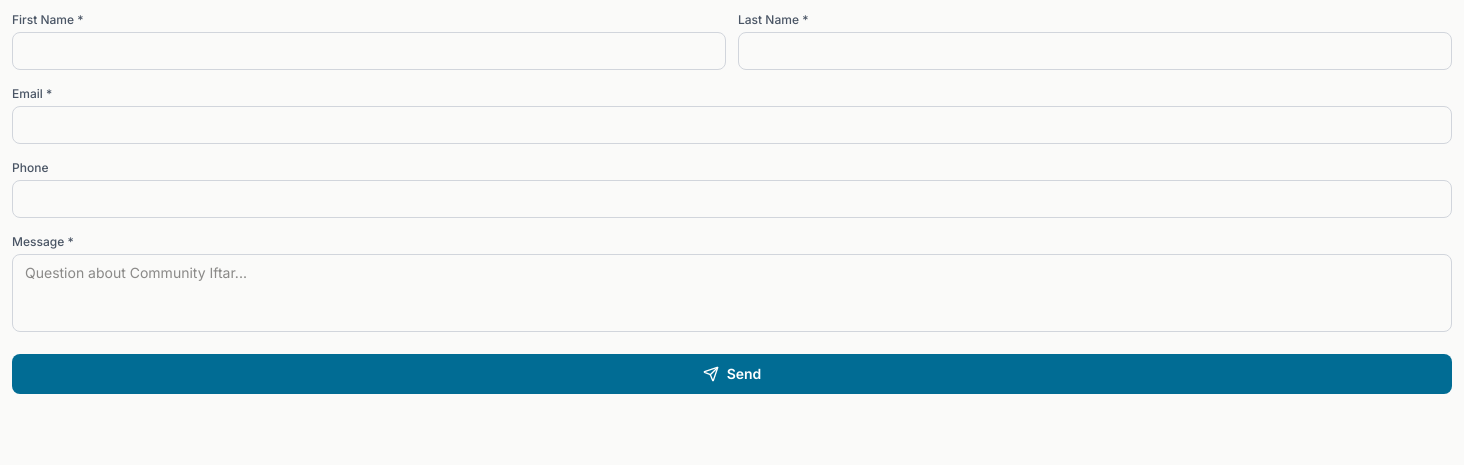
Test case: EventContactForm › shows the server's error message when the enquiry is rejected
The width and height of the screenshot is (1464, 465).
Type "Omar" into the field labelled "First Name *" at (369, 51), box [12,32,726,70]
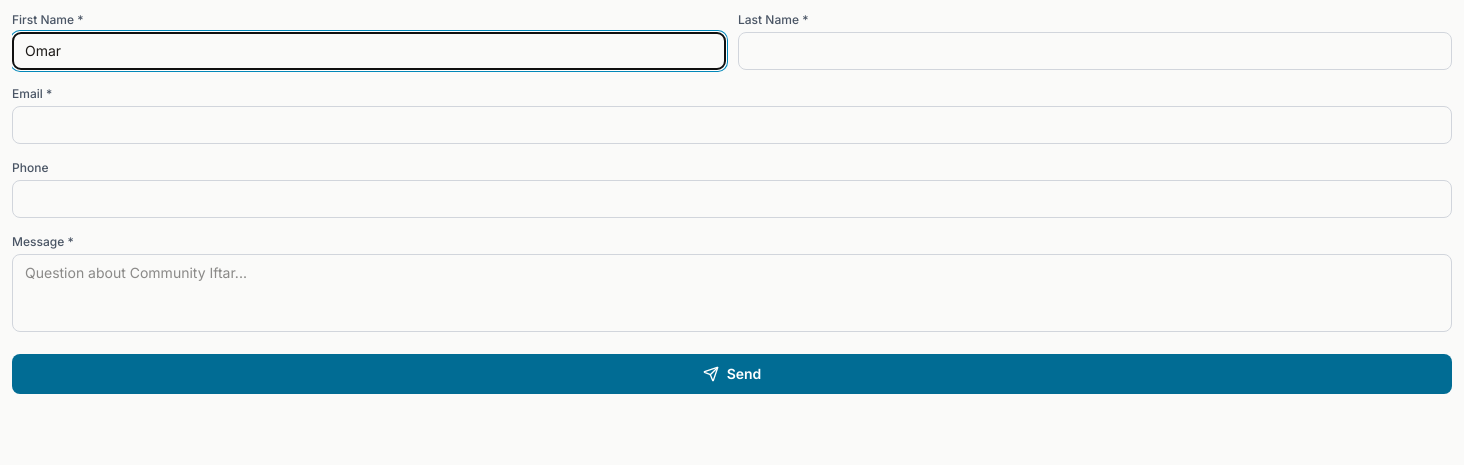
Type "Khan" into the field labelled "Last Name *" at (1095, 51), box [738,32,1452,70]
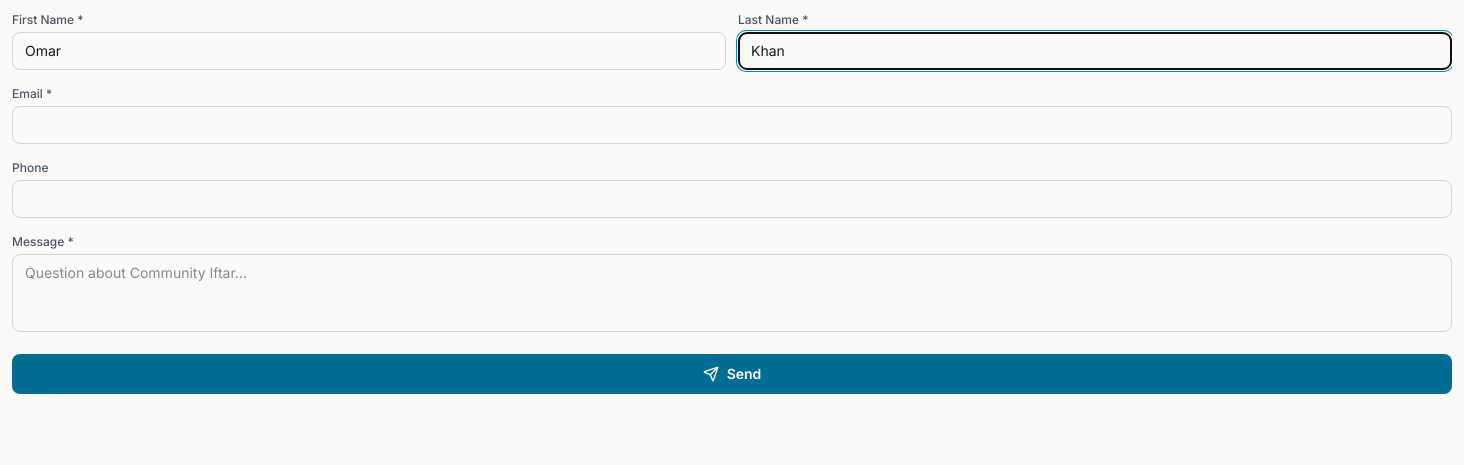
Type "omar@example.com" into the field labelled "Email *" at (732, 125), box [12,106,1452,144]
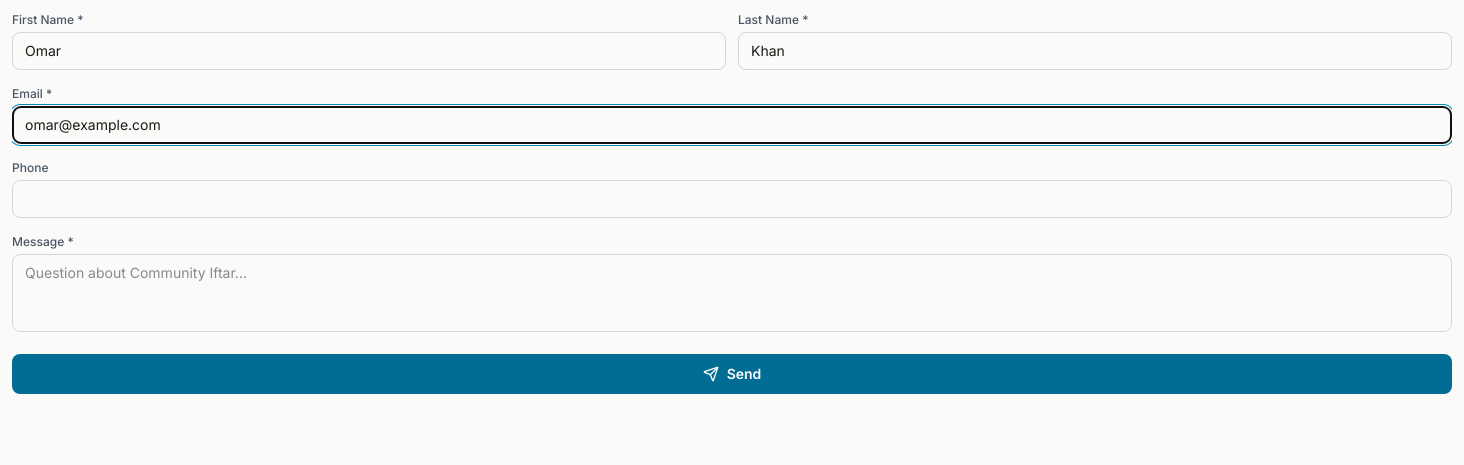
Type "Can I attend?" into the text box labelled "Message *" at (732, 293), box [12,254,1452,332]
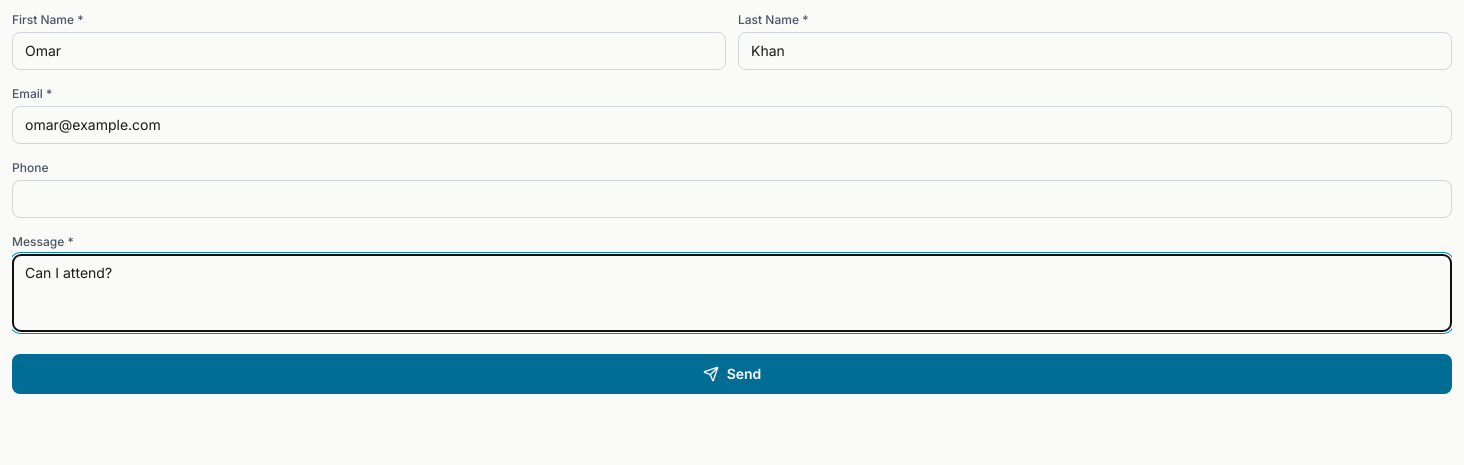
Click the button "Send" at (732, 374), box [12,354,1452,394]
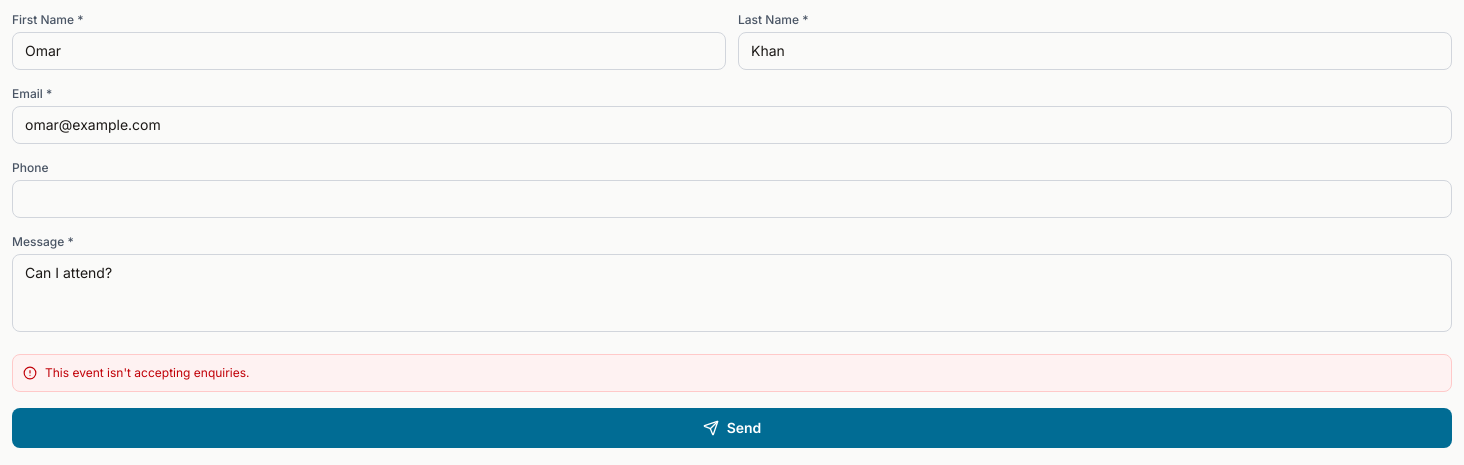
Now the text "This event isn't accepting enquiries." is shown, box [12,354,1452,392]
